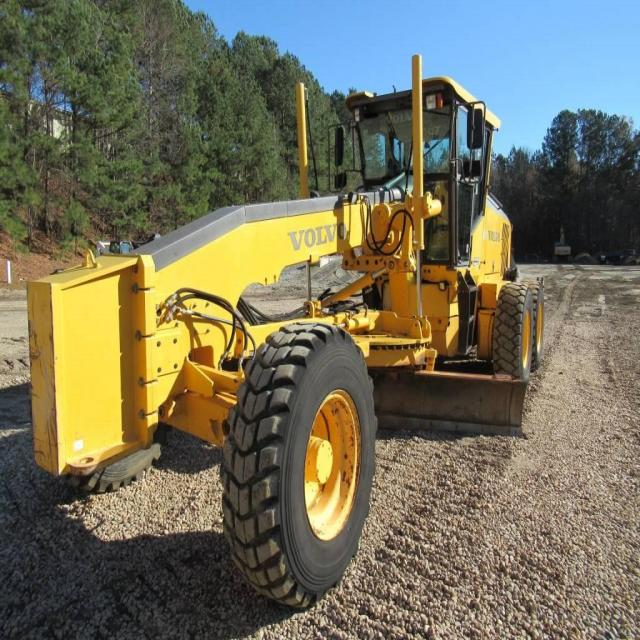Grader: (16, 35, 570, 630)
